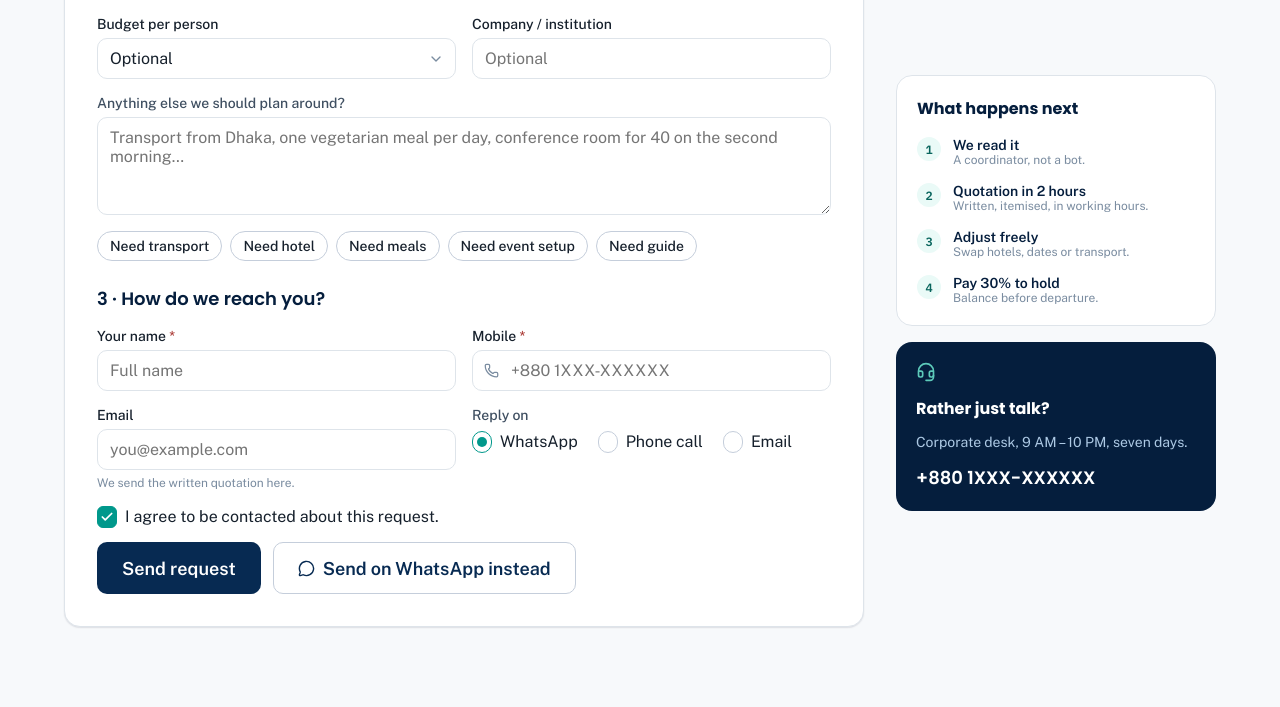
request form › puts server-side field errors next to the fields they belong to
(page scrolled)
Click the button "Send request". click: (179, 568)
box: 97,542 -> 261,594
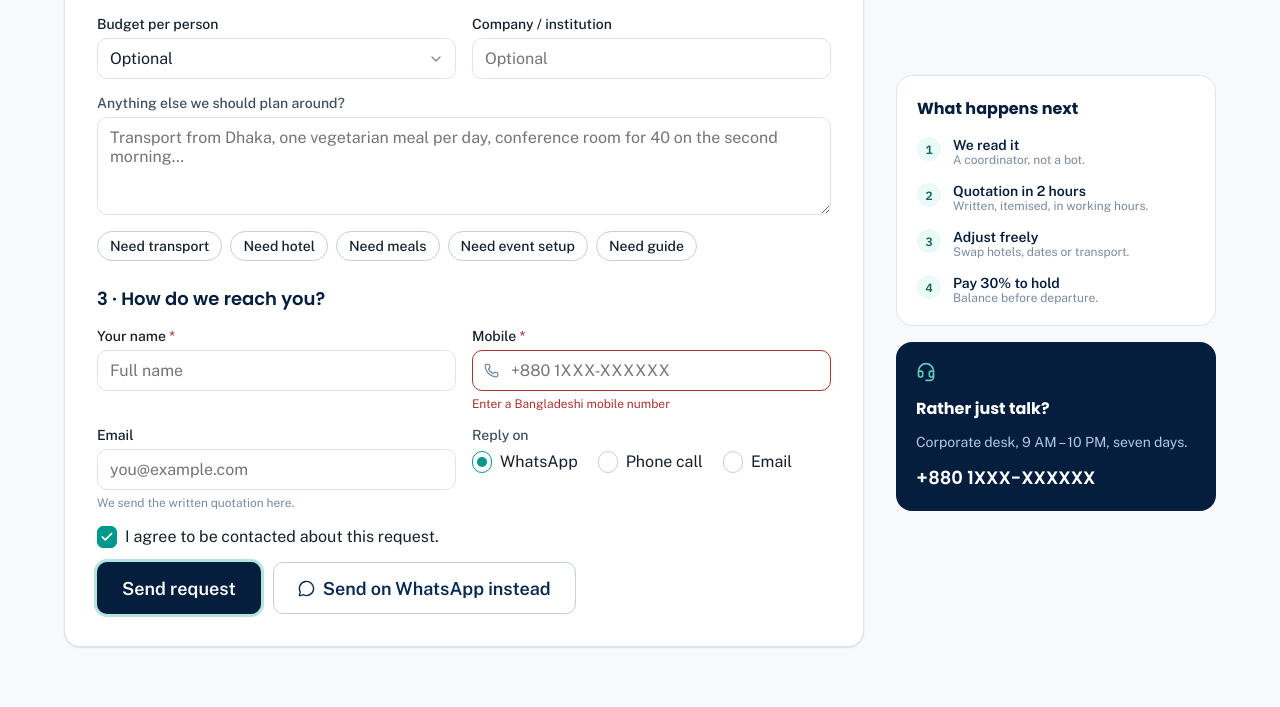
Result: the text "Enter a Bangladeshi mobile number" is shown at 472,397 -> 670,411
